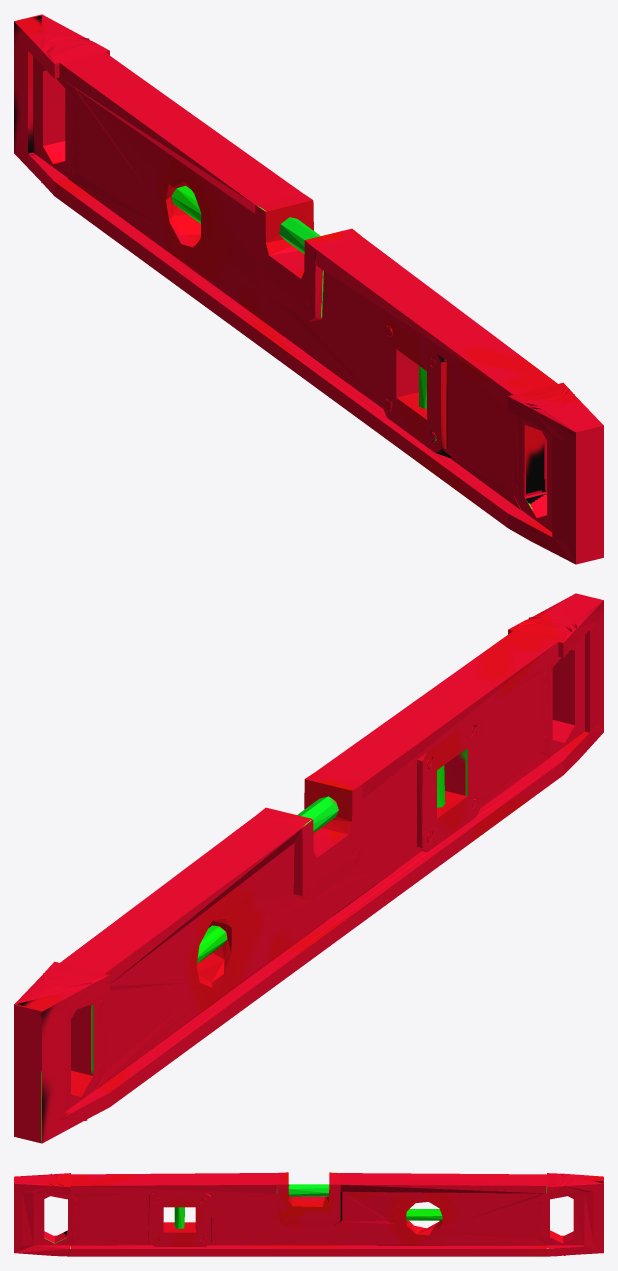
File: level.dae
The picture shows the model from 3 angles, top to bottom: view 1: azimuth 30°, elevation 25°; view 2: azimuth 150°, elevation 25°; view 3: azimuth 270°, elevation 25°; orthographic projection. The views are drawn at different scales.
Visible parts, largest first — view 1: Spirt level; view 2: Spirt level; view 3: Spirt level.
Part boxes in pixels (left/top/right/bottom): Spirt level: left=14, top=14, right=603, bottom=564; Spirt level: left=14, top=593, right=603, bottom=1143; Spirt level: left=14, top=1172, right=603, bottom=1256.
Bounding box in the file's own units: 0.0972 × 1.71 × 0.2294.
Materials: 1 (1 with a texture image).
